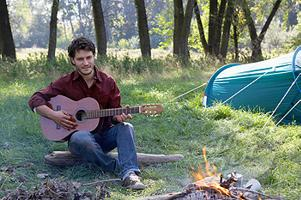person: (28, 38, 145, 190)
